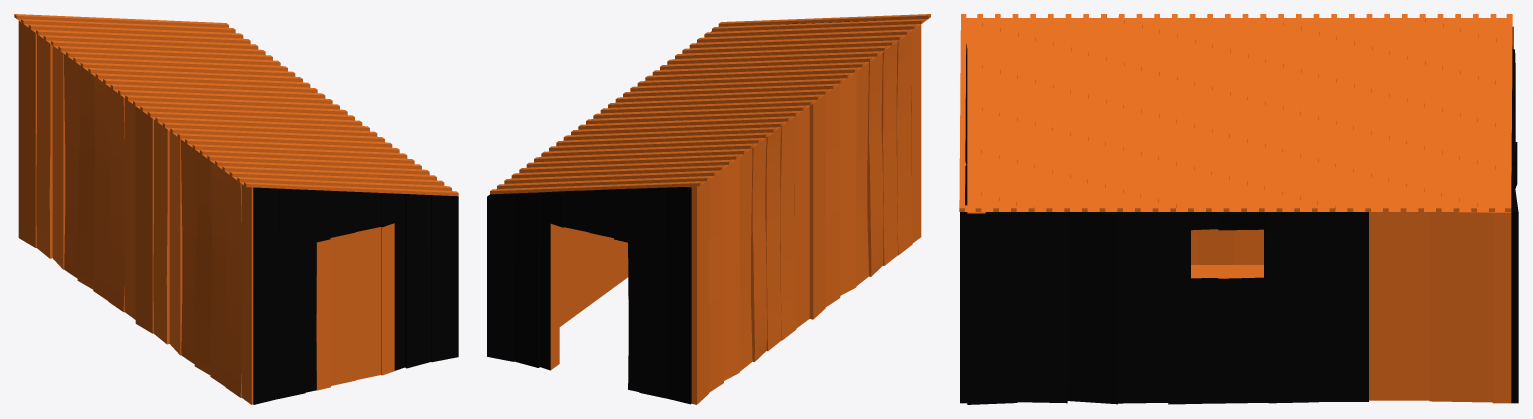
Rendered from Poulailler.fbx.
3 renders of one model, left to right at view 1: azimuth 30°, elevation 25°; view 2: azimuth 150°, elevation 25°; view 3: azimuth 270°, elevation 25°, orthographic. The views are drawn at different scales.
Visible parts, largest first — view 1: Poulailler; view 2: Poulailler; view 3: Poulailler.
Boxes of the visible parts, x1,y1,x2,y2 form: Poulailler: (14,14,458,404); Poulailler: (487,14,930,404); Poulailler: (959,14,1518,404).
Size of the model in its own units: 439 by 440 by 835.
